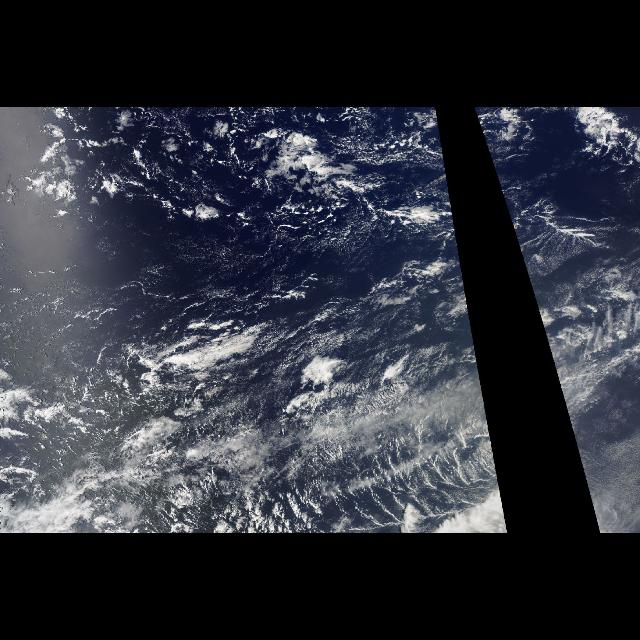Sugar: (17, 215, 467, 469)
